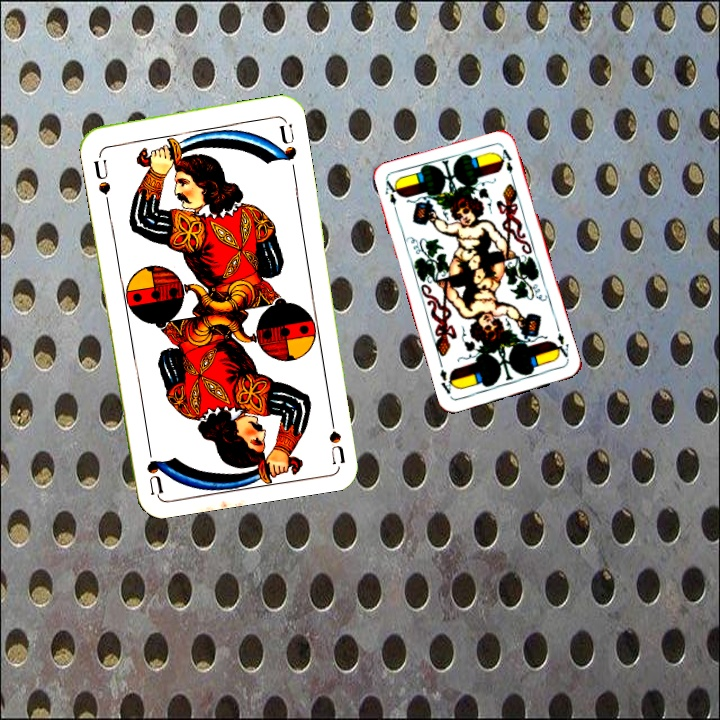EA: (550, 329, 571, 360), (381, 177, 401, 208)
SU: (325, 405, 347, 465), (89, 155, 113, 207)
